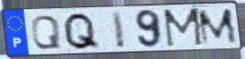9: (133, 8, 163, 50)
I: (110, 10, 128, 50)
M: (162, 7, 207, 49), (196, 7, 240, 47)
Q: (62, 11, 102, 51), (30, 14, 63, 51)
